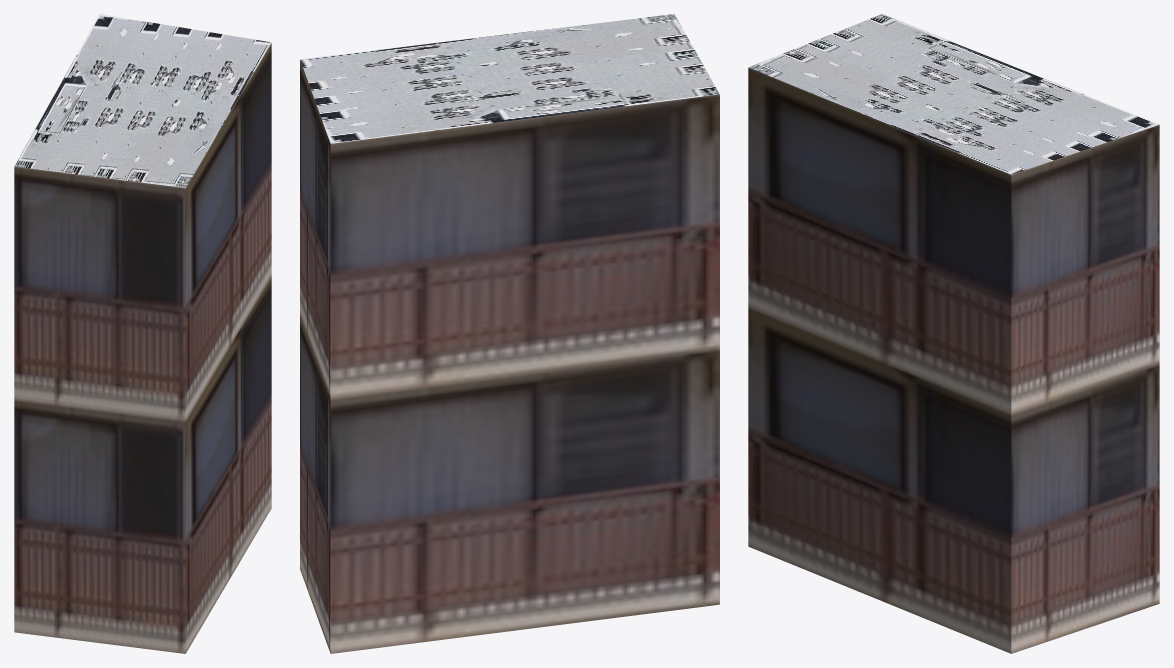
Rendered from ResTex__1785.fbx.
3 renders of one model, left to right at view 1: azimuth 30°, elevation 25°; view 2: azimuth 150°, elevation 25°; view 3: azimuth 270°, elevation 25°, orthographic. The views are drawn at different scales.
Parts seen in each view (by area): view 1: CityEngineMaterial_6_m, CityEngineMaterial_2_m; view 2: CityEngineMaterial_6_m, CityEngineMaterial_2_m; view 3: CityEngineMaterial_6_m, CityEngineMaterial_2_m.
Boxes of the visible parts, left/top/right/bottom form: CityEngineMaterial_6_m: left=14, top=43, right=271, bottom=653; CityEngineMaterial_2_m: left=14, top=14, right=271, bottom=187; CityEngineMaterial_6_m: left=300, top=60, right=719, bottom=653; CityEngineMaterial_2_m: left=300, top=14, right=719, bottom=143; CityEngineMaterial_6_m: left=748, top=67, right=1159, bottom=653; CityEngineMaterial_2_m: left=748, top=14, right=1159, bottom=174.
Size of the model in its own units: 4.32 by 6 by 4.67.
Materials: 2 (2 with a texture image).
